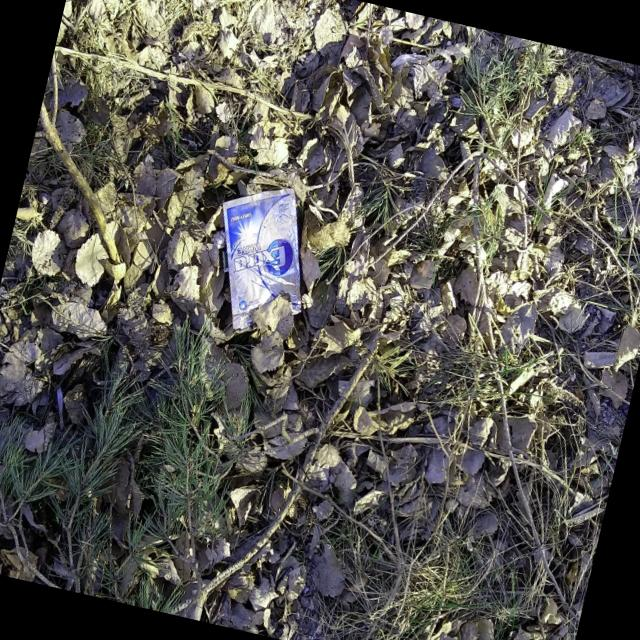less trash: (222, 188, 301, 330)
